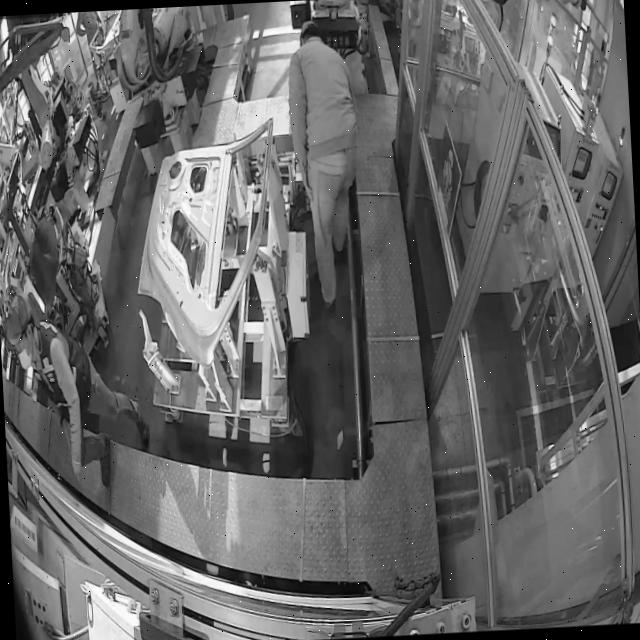Person: (2, 286, 154, 494), (285, 17, 368, 313), (76, 11, 106, 70)
